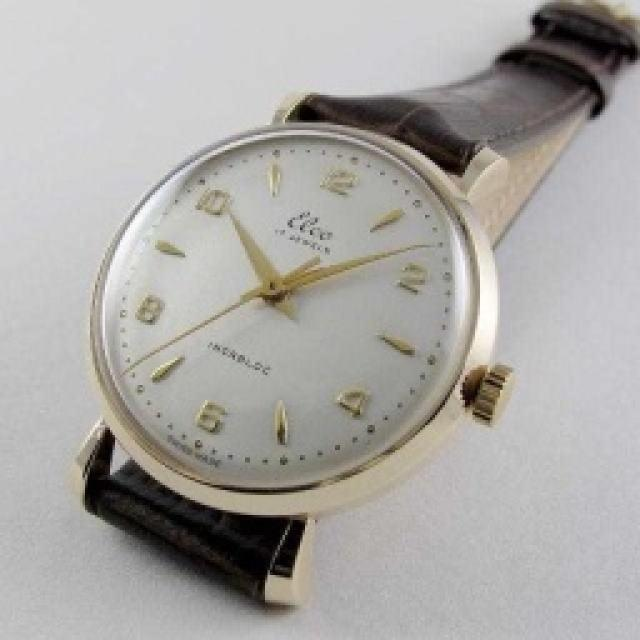saat: (65, 0, 635, 640)
